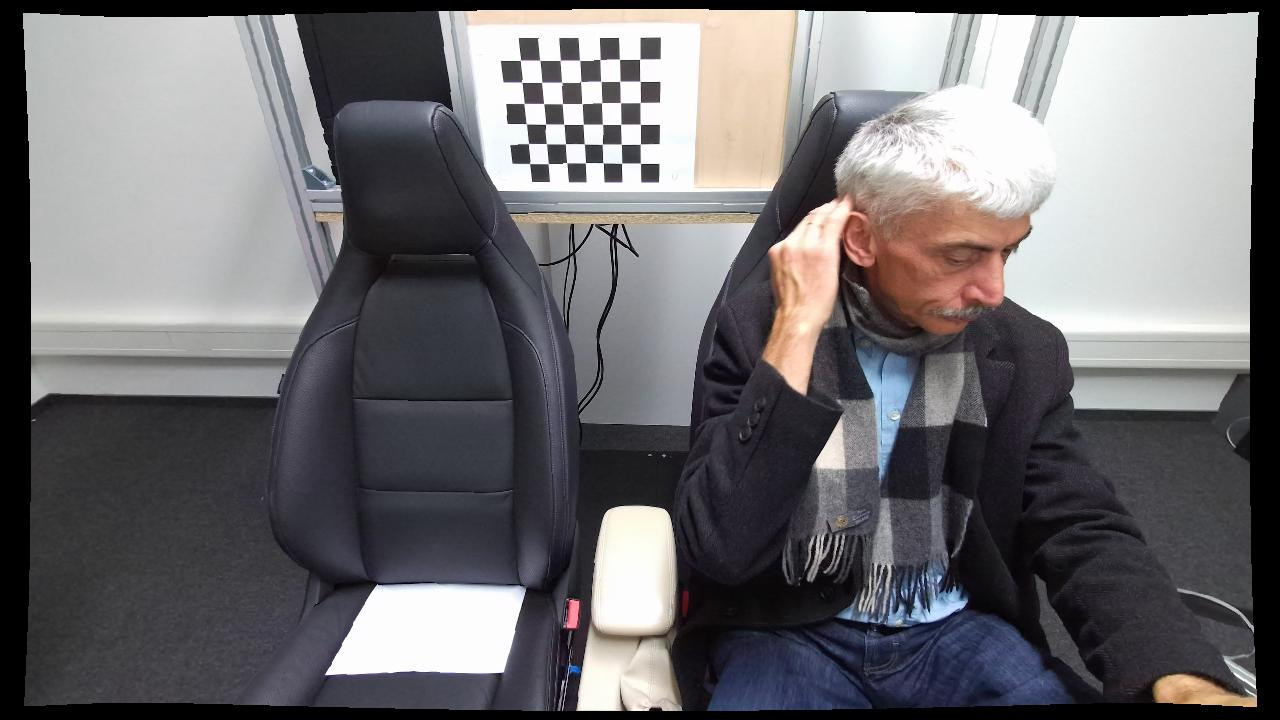Distracted: (671, 81, 1099, 714)
